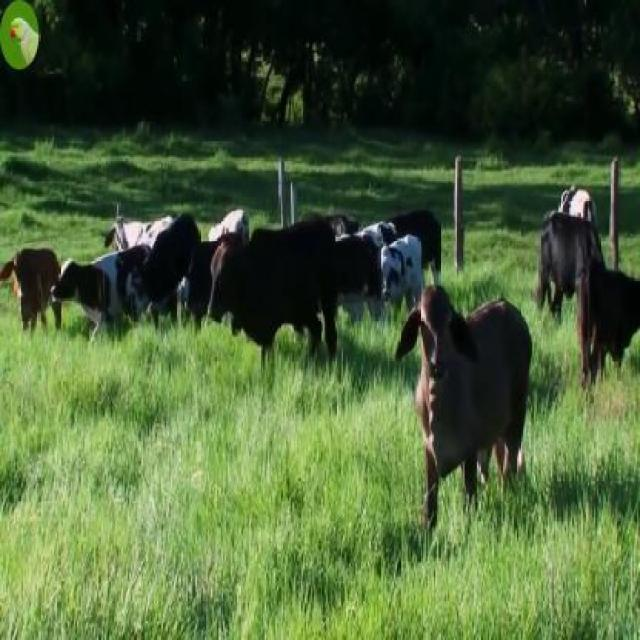Cow: (394, 288, 534, 520), (0, 249, 58, 343)
